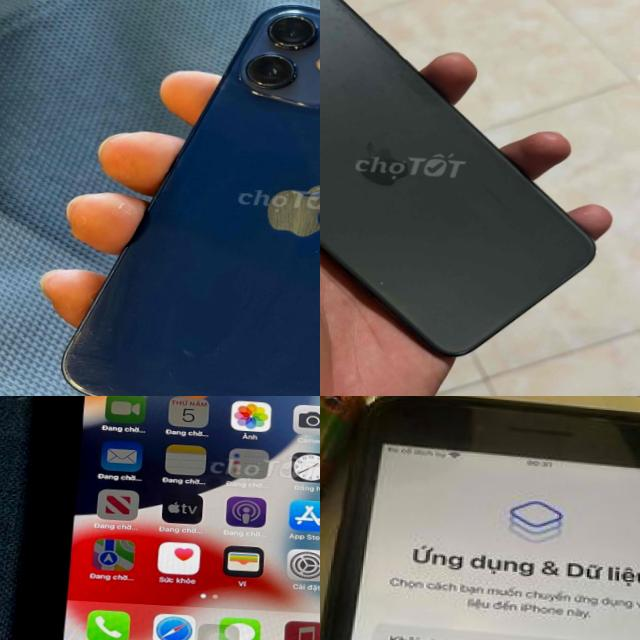scratch: (320, 0, 456, 103), (458, 174, 546, 240), (571, 409, 640, 442), (366, 264, 404, 296)
